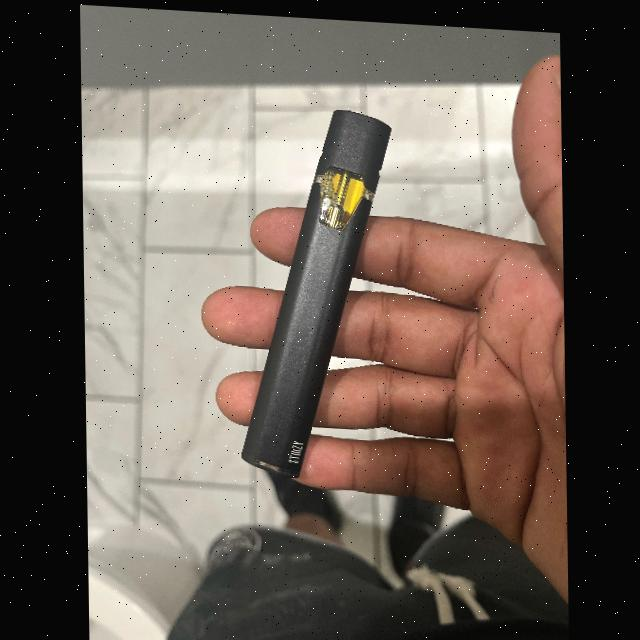vape: (234, 98, 396, 483)
